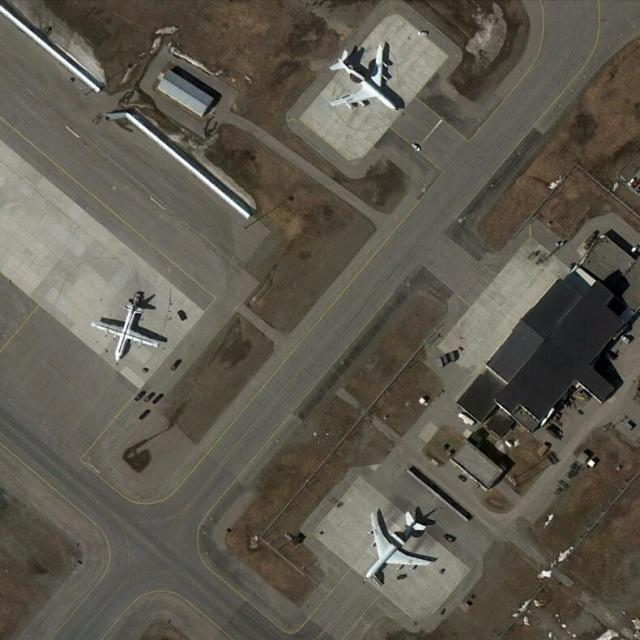fighter jet: (361, 492, 446, 591), (322, 35, 412, 123), (84, 291, 168, 364)
